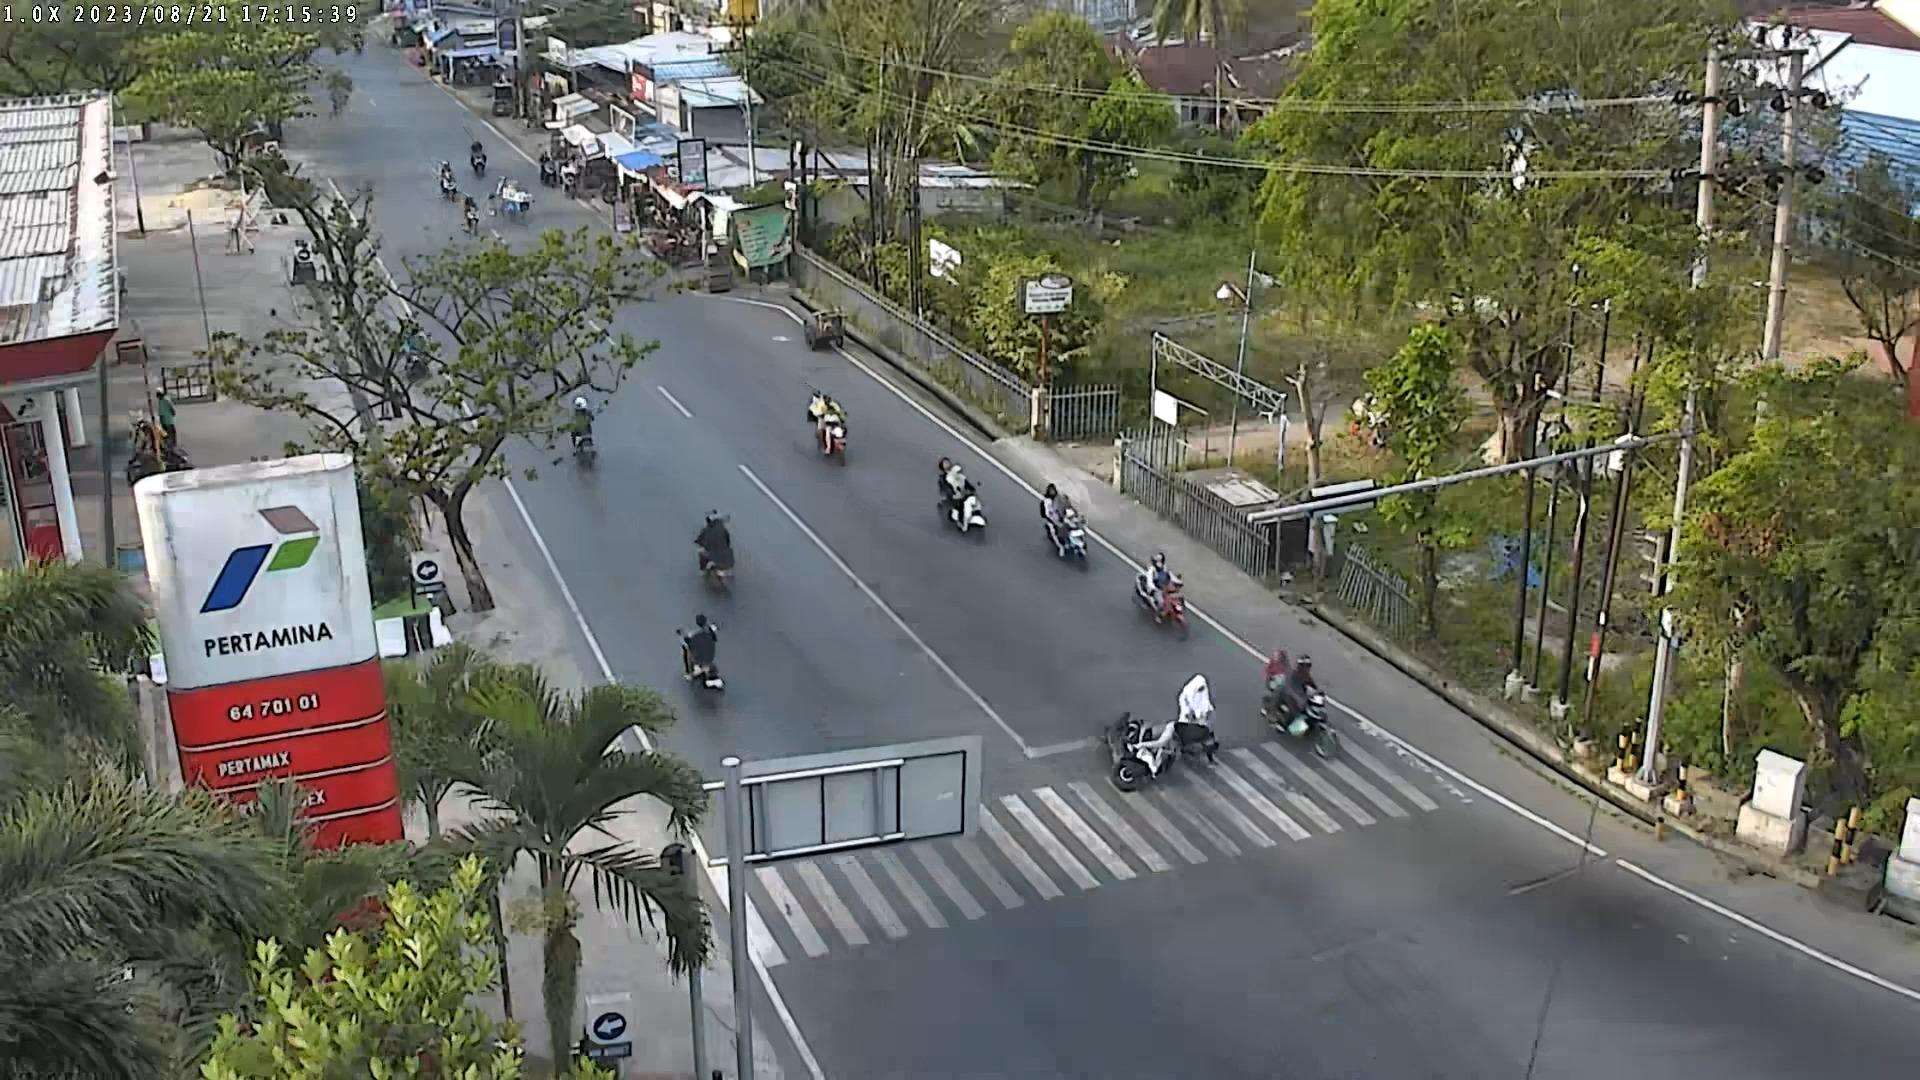accident: (1126, 720, 1220, 771)
